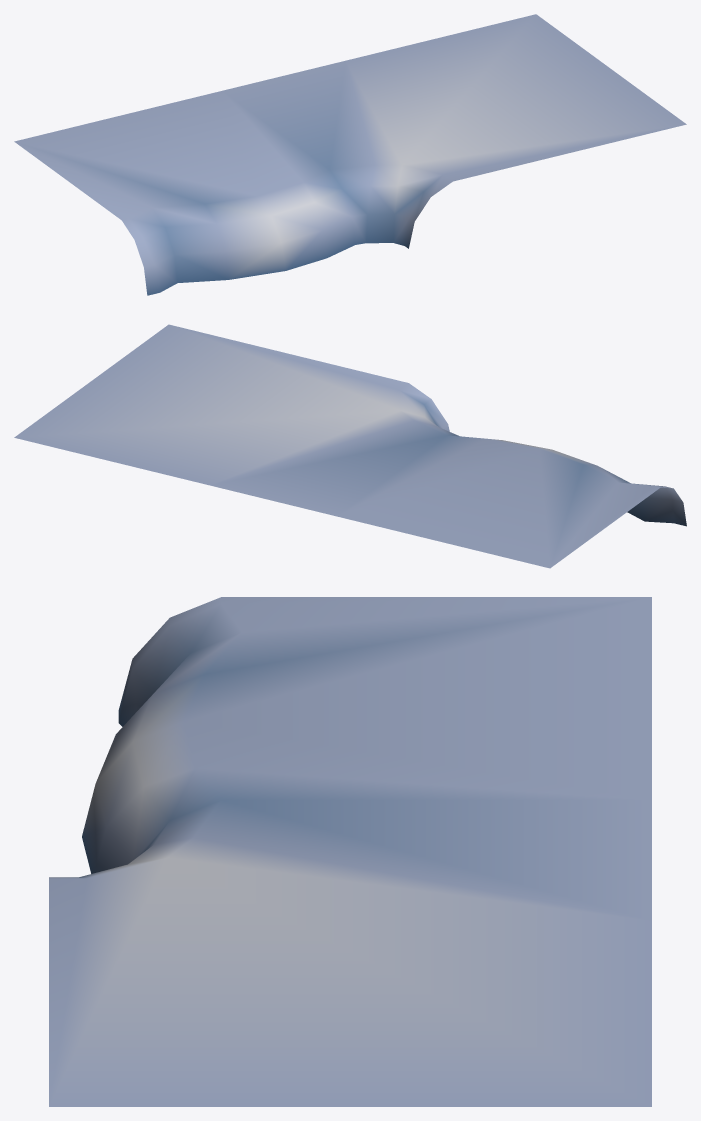
The model's file is Surface_PlatformCorner.fbx.
3 views of the same model, one above another, from view 1: azimuth 30°, elevation 25°; view 2: azimuth 150°, elevation 25°; view 3: azimuth 270°, elevation 25° (orthographic). The views are drawn at different scales.
Parts seen in each view (by area): view 1: Surface_PlatformCorner; view 2: Surface_PlatformCorner; view 3: Surface_PlatformCorner.
Part boxes in pixels (x1,y1,x2,y2): Surface_PlatformCorner: (14, 14, 686, 295); Surface_PlatformCorner: (14, 324, 686, 568); Surface_PlatformCorner: (49, 597, 651, 1106).
Bounding box in the file's own units: 4000 × 415 × 2000.
